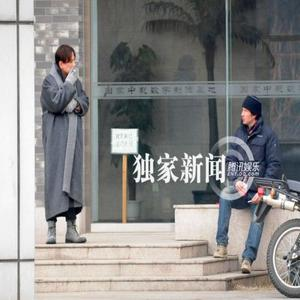cigarette: (73, 67, 77, 76)
